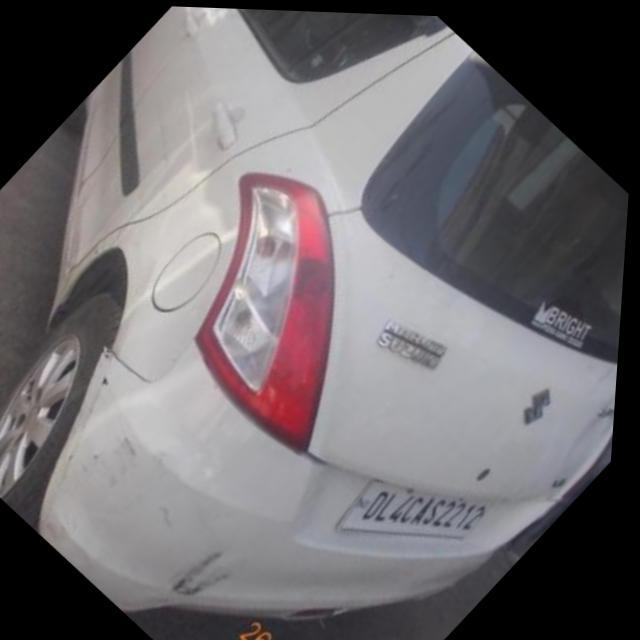dent: (563, 392, 620, 477)
rub: (71, 427, 152, 515), (169, 541, 240, 614)
